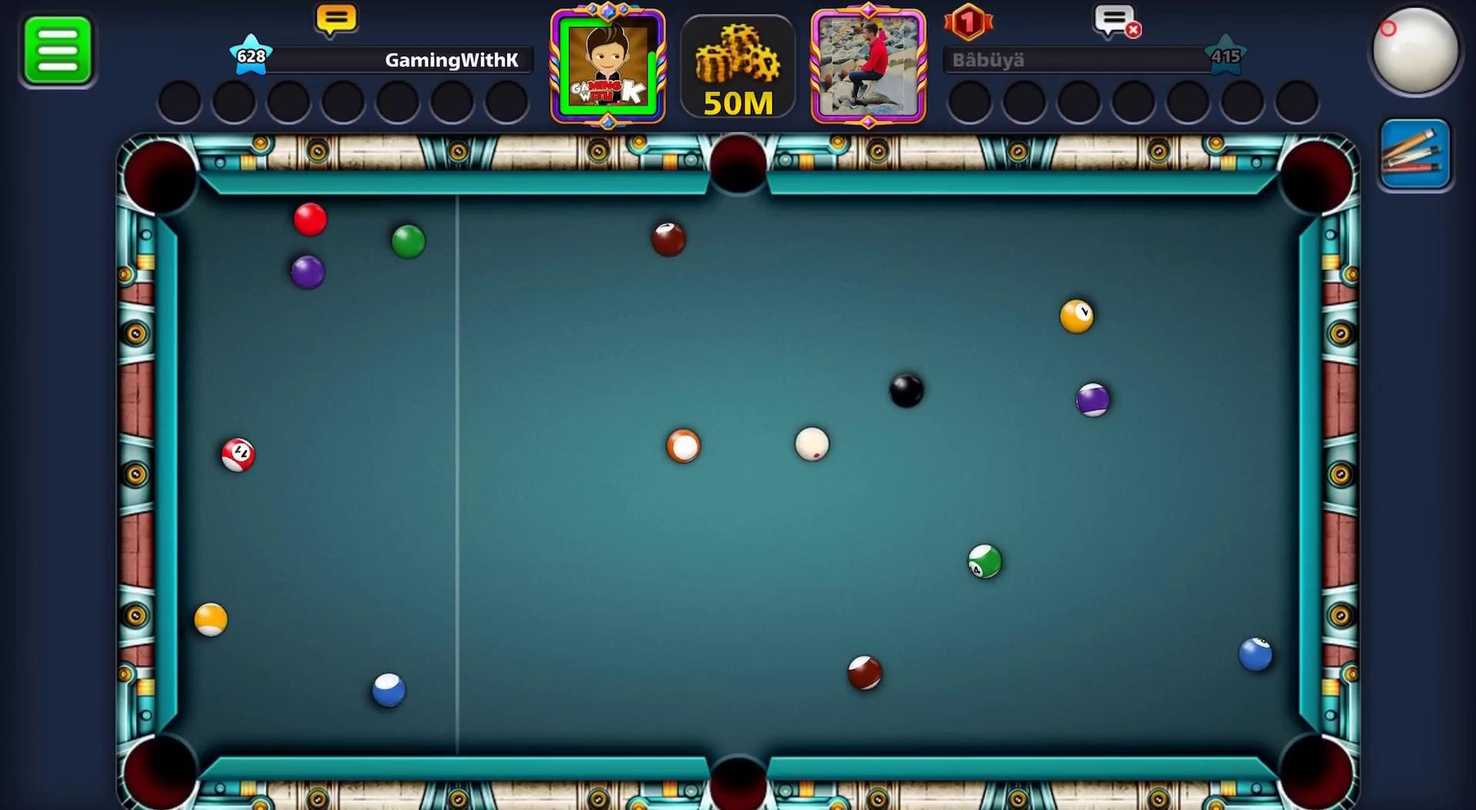Ball: (837, 647, 891, 697), (641, 215, 696, 264), (959, 538, 1012, 587), (886, 366, 933, 419), (1231, 627, 1279, 677), (383, 220, 435, 264), (665, 428, 701, 465), (193, 602, 229, 639), (1075, 381, 1111, 418), (371, 672, 407, 709), (292, 201, 328, 237), (1059, 298, 1094, 334), (220, 437, 255, 473), (290, 254, 325, 289)
Hole: (109, 123, 221, 233), (98, 719, 222, 810), (1259, 715, 1364, 810), (1272, 122, 1359, 226), (697, 125, 782, 219), (692, 742, 786, 810)
Play_Area: (177, 196, 1299, 757)
Spin: (1330, 0, 1476, 113)
White: (791, 423, 836, 469)
